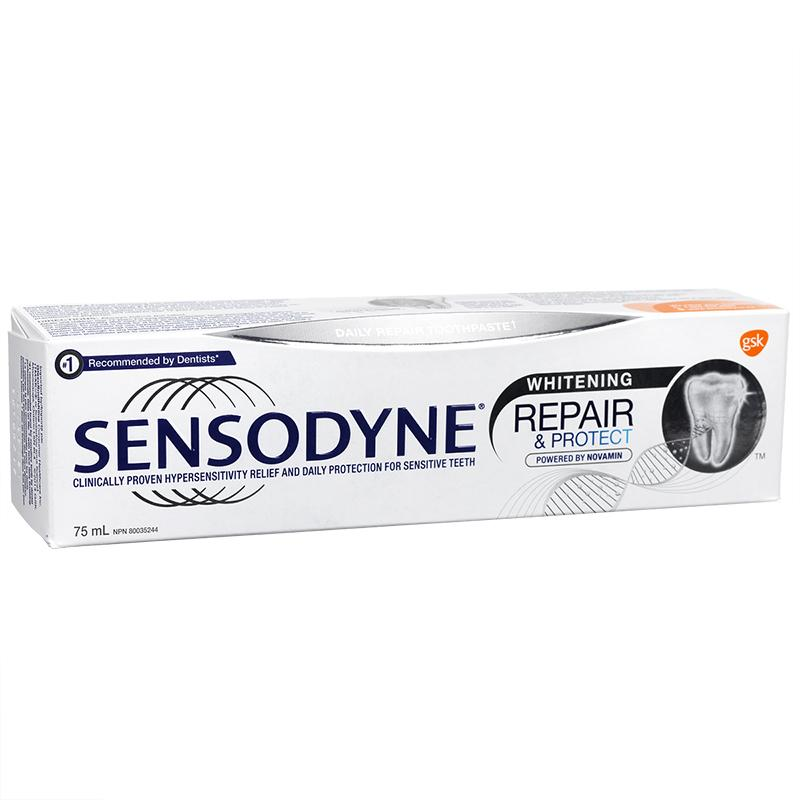toothpaste: (6, 272, 799, 553)
